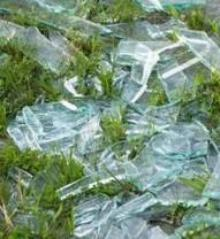glass: (133, 108, 215, 202), (10, 98, 98, 150)
